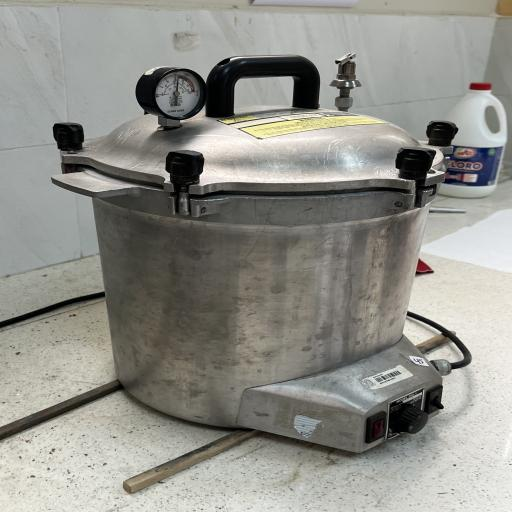Autoclave: (40, 46, 475, 458)
